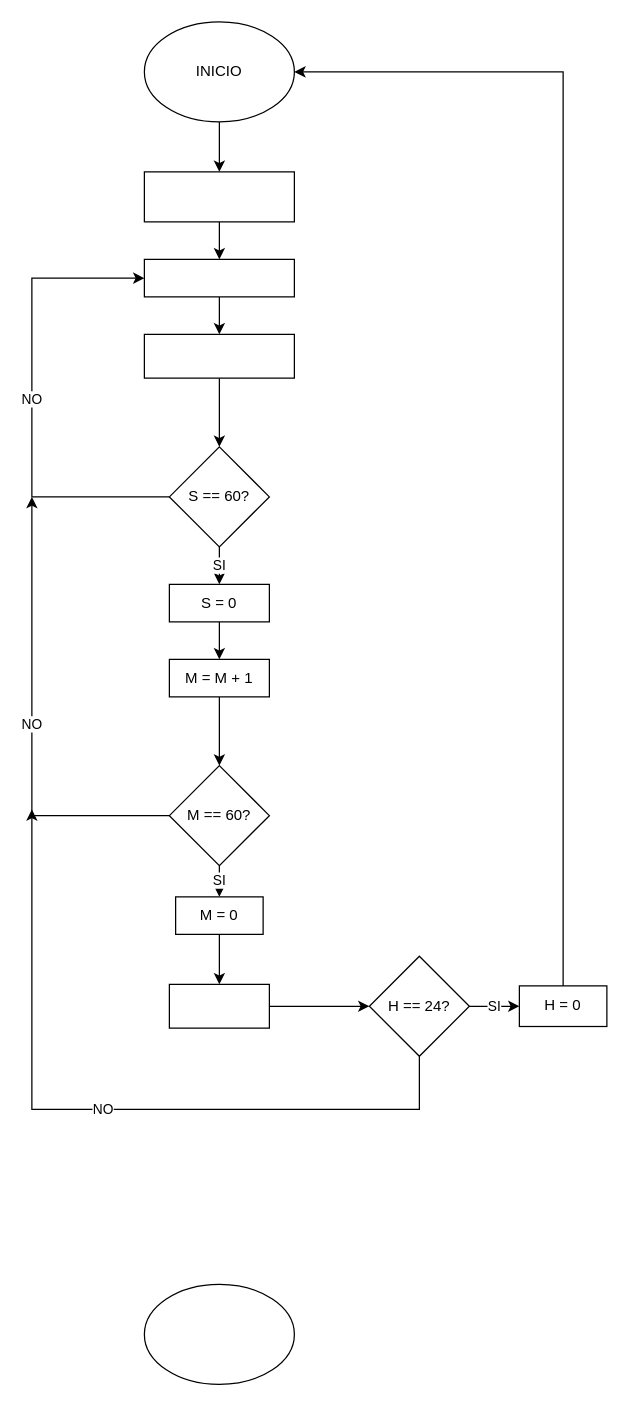
The diagram is 629 pixels wide and 1406 high, and some of its shapes have lost their labels. Each missing label, with the centre of its shape:
"H = H + 1" belongs at point 218,1005.
"H= 0 M=0 S=0" belongs at point 218,196.
"Mostrar" belongs at point 218,277.
"S = S + 1" belongs at point 218,355.
